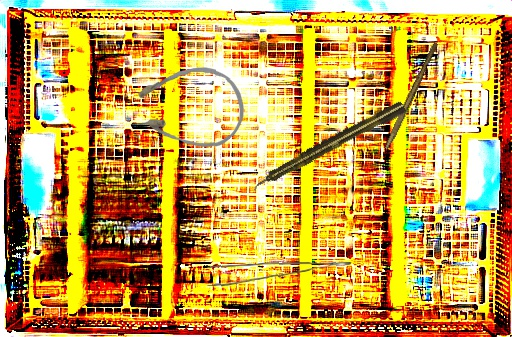Cannula: (129, 66, 245, 148)
Handpiece: (248, 99, 408, 194)
Scalpel Handle: (384, 40, 439, 152)
Tissue Forceps: (206, 259, 351, 289)
